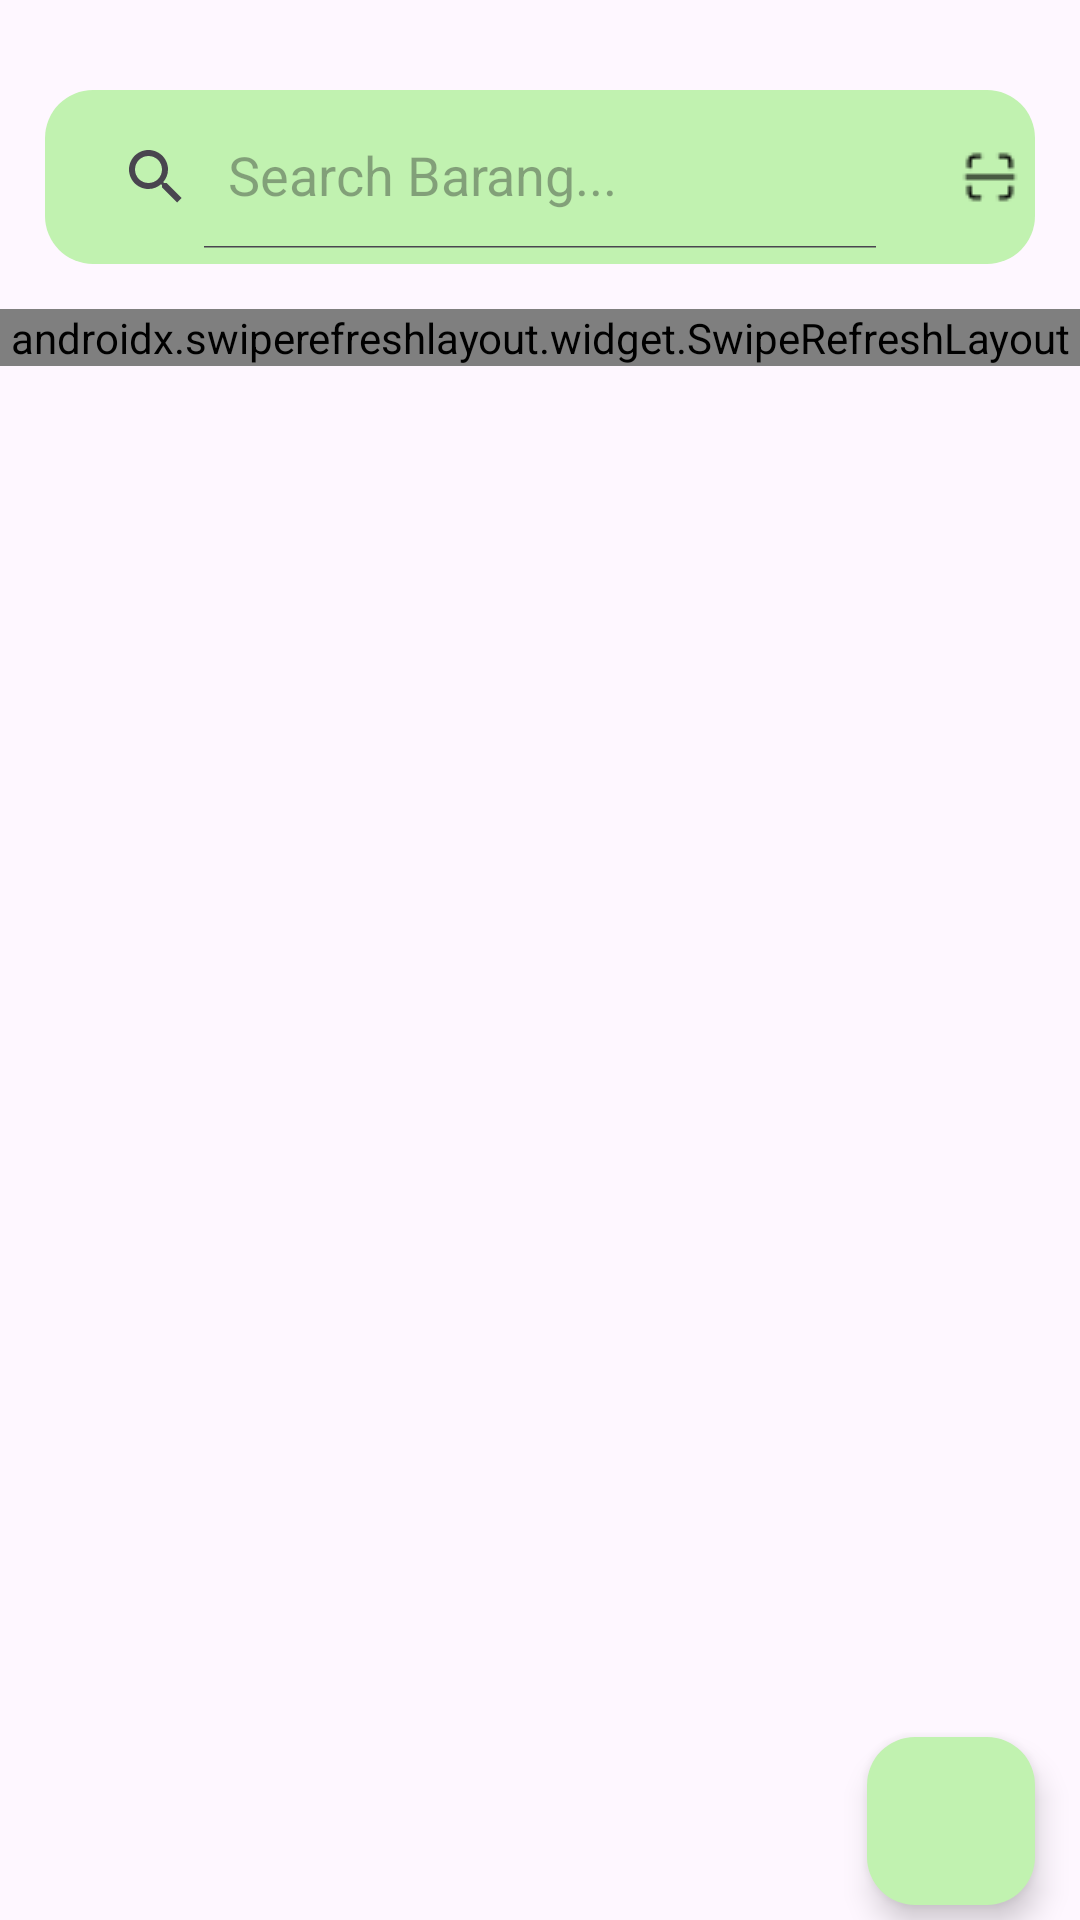

Screen size 1080w x 1920h. Icon name, then its center in pixels as (x,y):
scan qr: (990,177)
